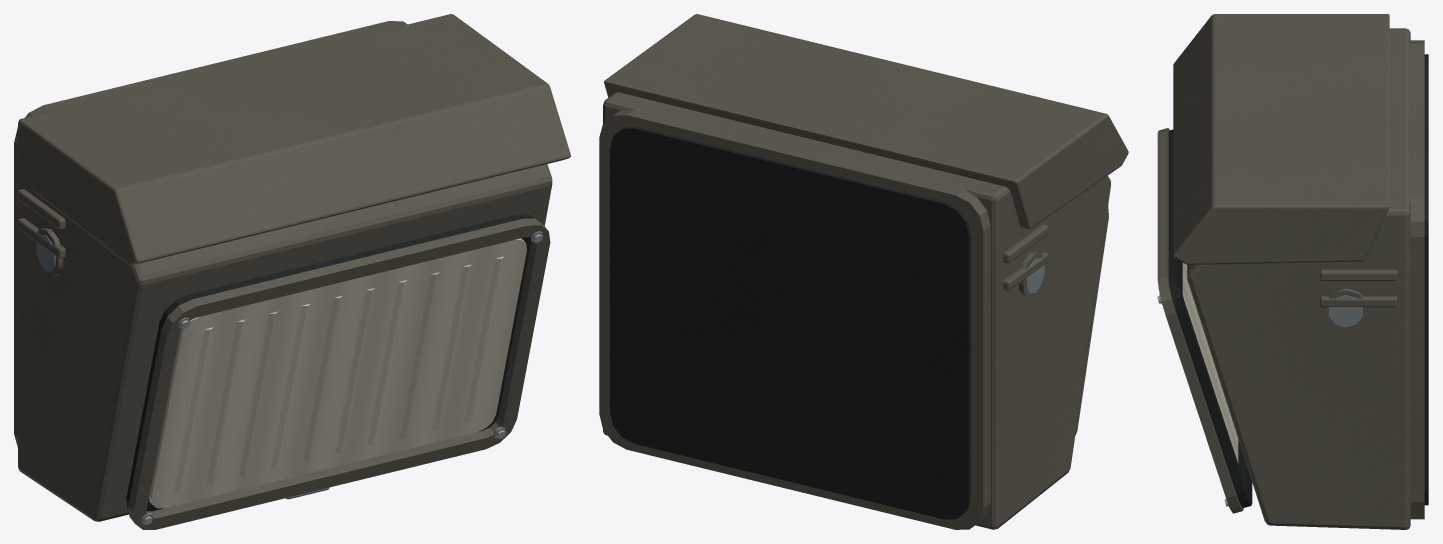
Rendered from SM_Exterior_WallPack_LOD1.fbx.
The picture shows the model from 3 angles, left to right: view 1: azimuth 30°, elevation 25°; view 2: azimuth 150°, elevation 25°; view 3: azimuth 270°, elevation 25°; orthographic projection. The views are drawn at different scales.
Parts seen in each view (by area): view 1: SM_Exterior_WallPack_LOD1; view 2: SM_Exterior_WallPack_LOD1; view 3: SM_Exterior_WallPack_LOD1.
Part boxes in pixels (x1,y1,x2,y2): SM_Exterior_WallPack_LOD1: (14,14,570,529); SM_Exterior_WallPack_LOD1: (599,14,1128,529); SM_Exterior_WallPack_LOD1: (1157,14,1428,529).
Bounding box in the file's own units: 0.36 × 0.2136 × 0.297.
